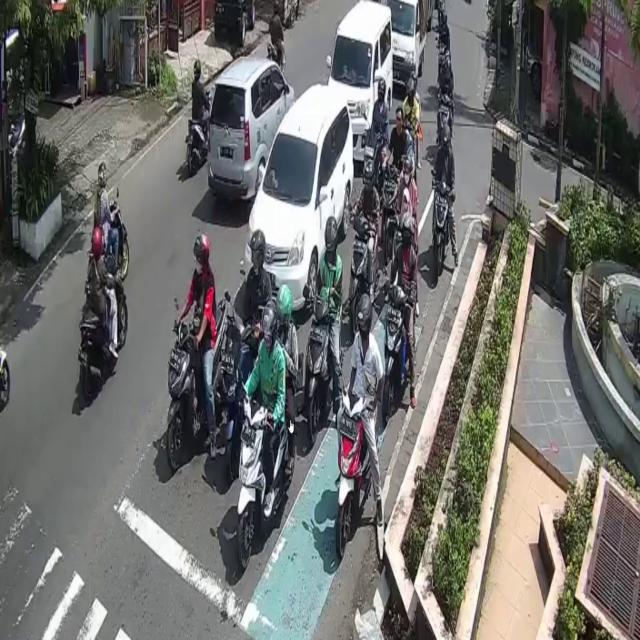bus: (163, 297, 234, 474), (237, 396, 290, 568), (80, 254, 128, 405), (337, 387, 372, 555), (305, 298, 333, 447), (383, 290, 412, 429), (352, 213, 377, 304), (434, 184, 453, 276)
motorcycle: (243, 81, 354, 319), (209, 58, 295, 202), (329, 0, 394, 162), (388, 0, 427, 87)
